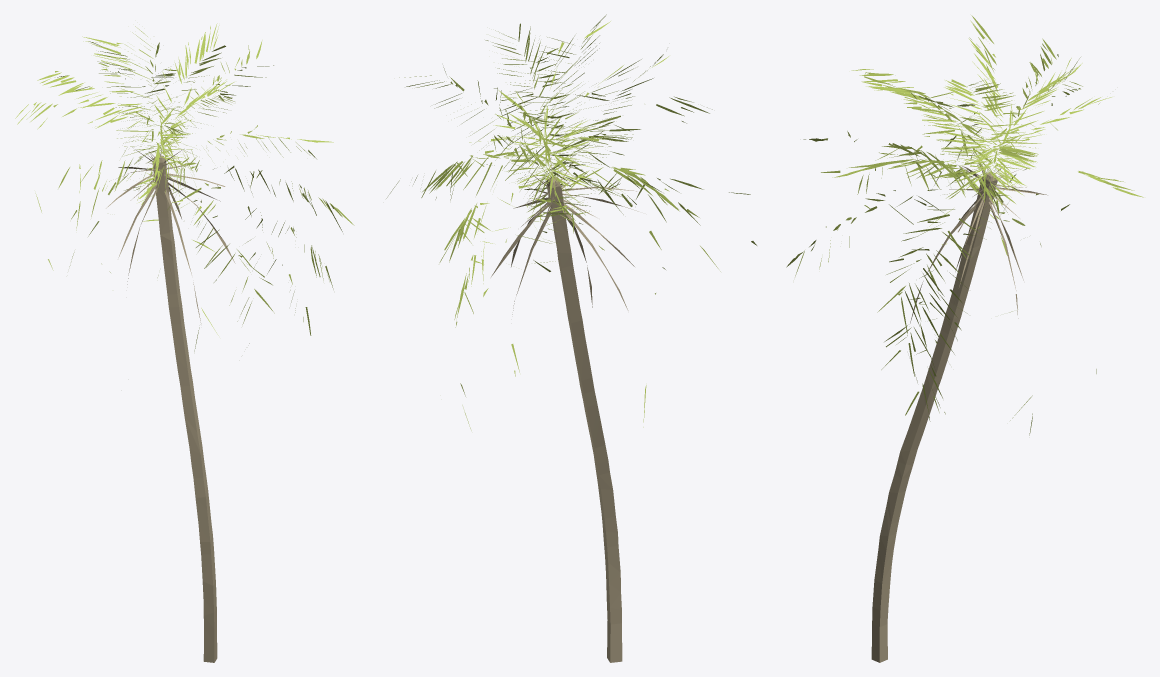
The model's file is tree_palm_tree.glb.
The picture shows the model from 3 angles, left to right: view 1: azimuth 30°, elevation 25°; view 2: azimuth 150°, elevation 25°; view 3: azimuth 270°, elevation 25°; orthographic projection. The views are drawn at different scales.
Visible parts, largest first — view 1: leaves, trunk, stems_1; view 2: leaves, trunk, stems_1; view 3: leaves, trunk, stems_1.
Boxes of the visible parts, left/top/right/bottom form: leaves: left=15, top=23, right=354, bottom=351; trunk: left=152, top=155, right=217, bottom=662; stems_1: left=106, top=149, right=235, bottom=323; leaves: left=386, top=14, right=756, bottom=430; trunk: left=546, top=177, right=622, bottom=662; stems_1: left=491, top=157, right=639, bottom=314; leaves: left=786, top=15, right=1143, bottom=435; trunk: left=871, top=172, right=997, bottom=662; stems_1: left=910, top=149, right=1047, bottom=323.
Size of the model in its own units: 5.04 by 9.36 by 4.94.
